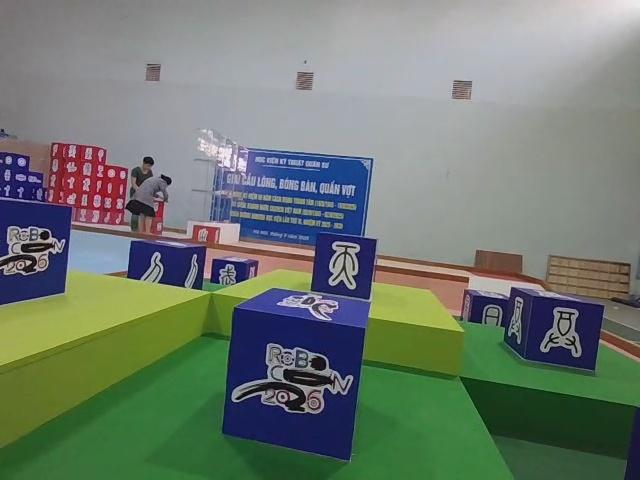R1 Blue: (224, 281, 371, 466), (0, 198, 73, 316)
R2 Fake Blue: (312, 233, 379, 302), (461, 290, 513, 328), (209, 256, 258, 286)
R2 Real Blue: (503, 287, 606, 373), (125, 240, 206, 293)
